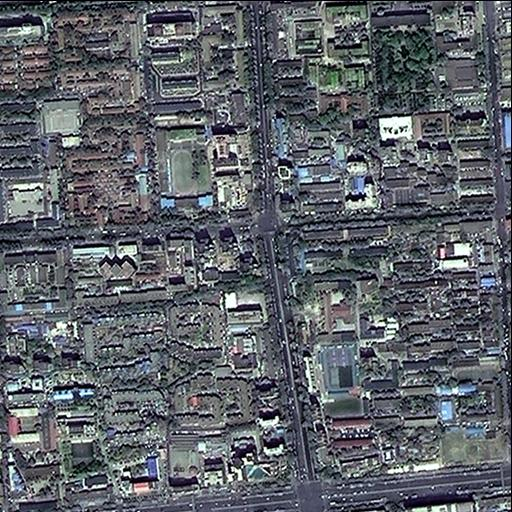school: (152, 123, 217, 209), (5, 401, 66, 460), (40, 97, 85, 149), (450, 355, 504, 380)
